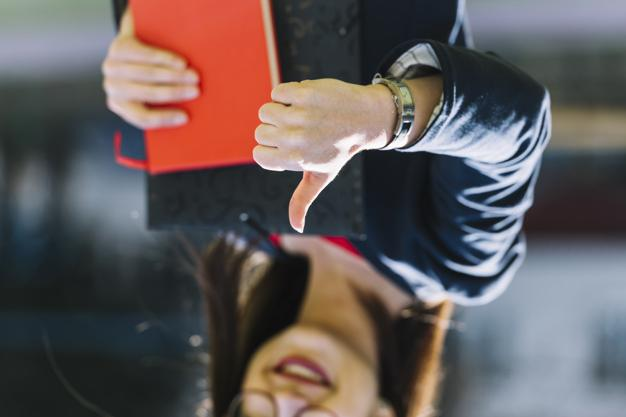thumbsdown: (253, 78, 332, 235)
